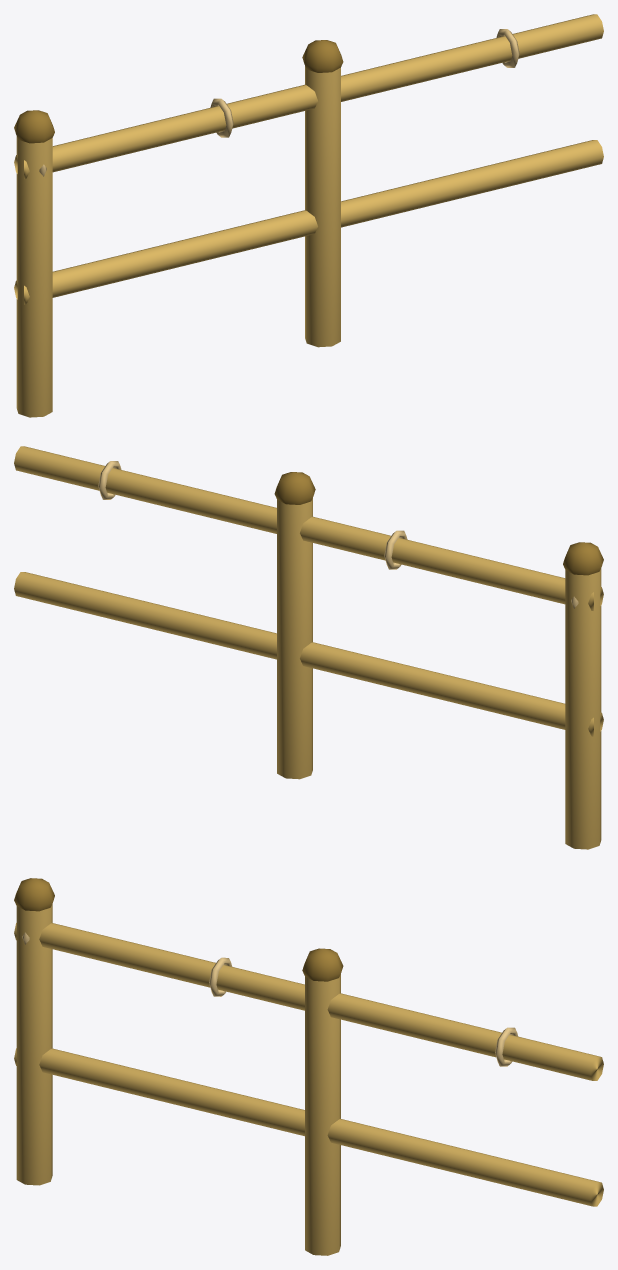
File: lava_rail.glb
3 renders of one model, top to bottom at view 1: azimuth 30°, elevation 25°; view 2: azimuth 150°, elevation 25°; view 3: azimuth 330°, elevation 25°, orthographic.
Parts seen in each view (by area): view 1: Rail; view 2: Rail; view 3: Rail.
Part boxes in pixels (x1,y1,x2,y2): Rail: [14, 14, 603, 417]; Rail: [14, 446, 603, 849]; Rail: [14, 878, 603, 1255].
Size of the model in its own units: 2.52 by 1.24 by 0.162.
